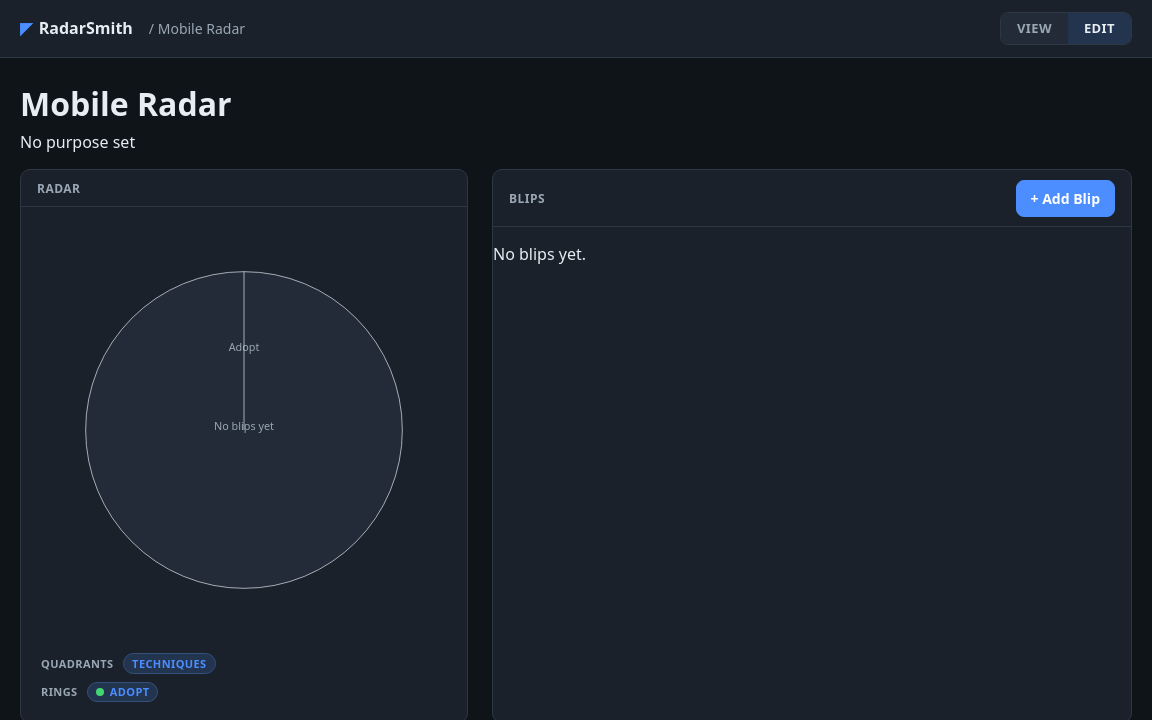
Test case: RadarWorkspace › adds a new blip to the table from the server-confirmed response, without refetching the radar
The width and height of the screenshot is (1152, 720).
Expected: the heading "Mobile Radar" is shown, left=20, top=82, right=232, bottom=125
Click the button "+ Add Blip" at [1065, 198], box left=1016, top=180, right=1115, bottom=217
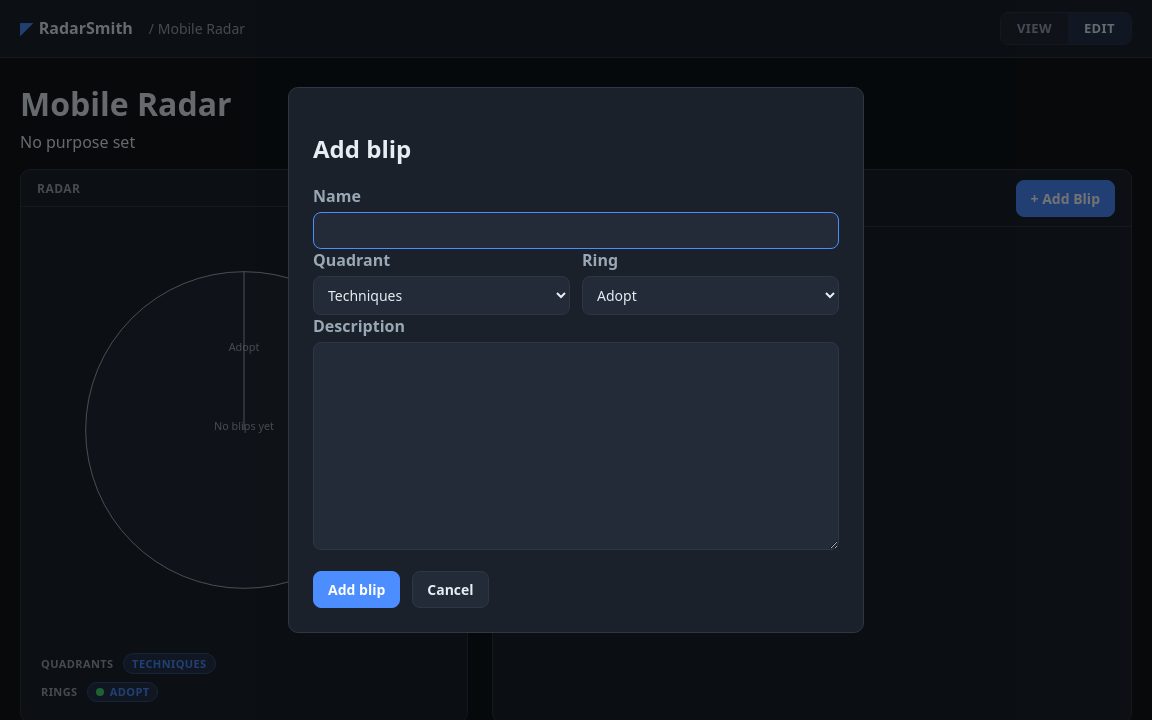
Type "Feature Flags" into the field labelled "Name" at [576, 230], box left=313, top=212, right=839, bottom=249
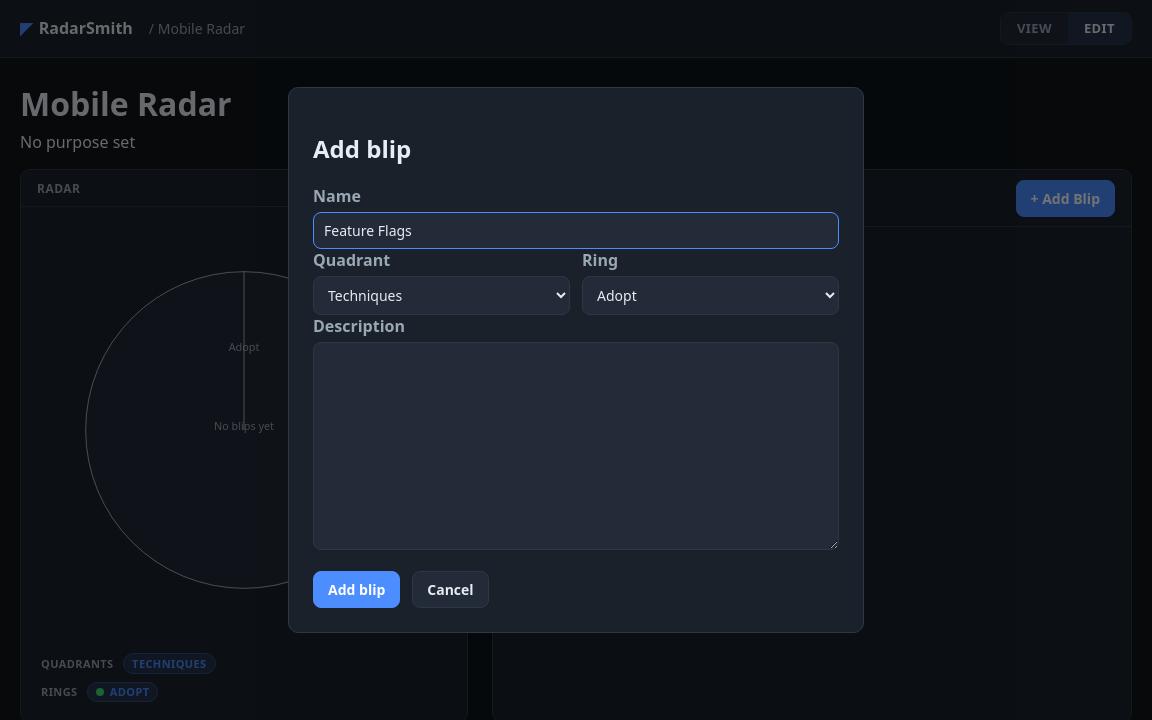
Type "Toggle behavior at runtime." into the text box labelled "Description" at [576, 446], box left=313, top=342, right=839, bottom=550
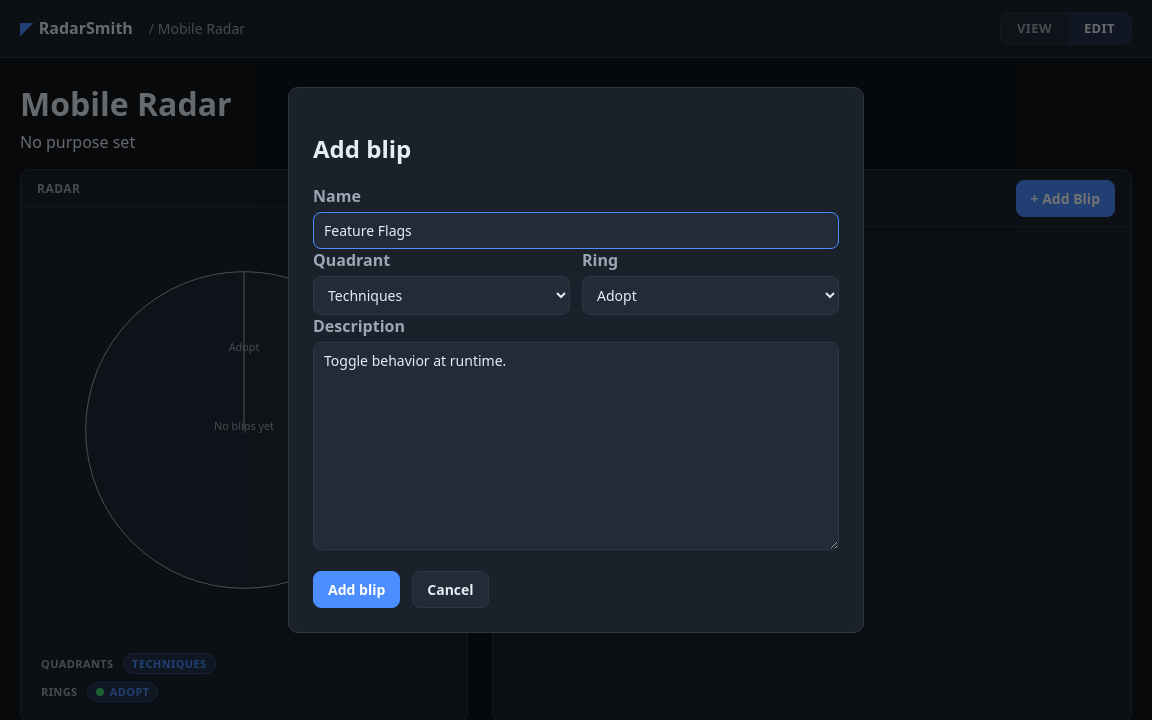
Click the button "Add blip" at [357, 589], box left=313, top=571, right=400, bottom=608
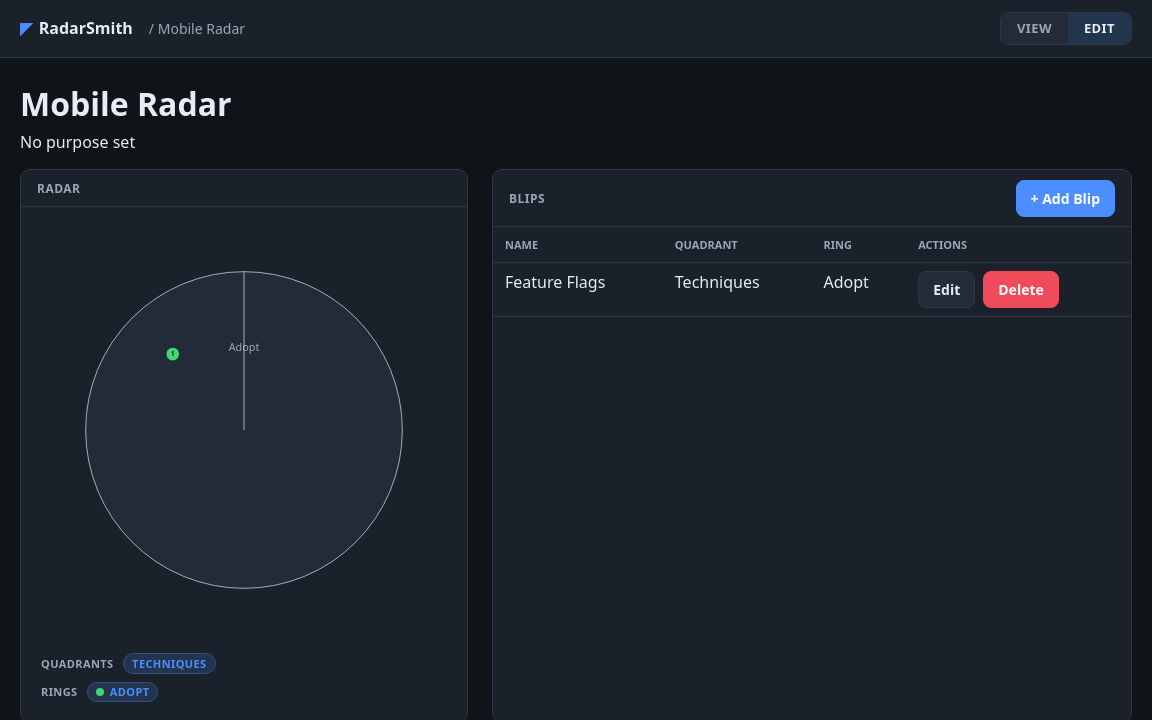
Now the cell "Feature Flags" is shown, box left=493, top=262, right=663, bottom=316
